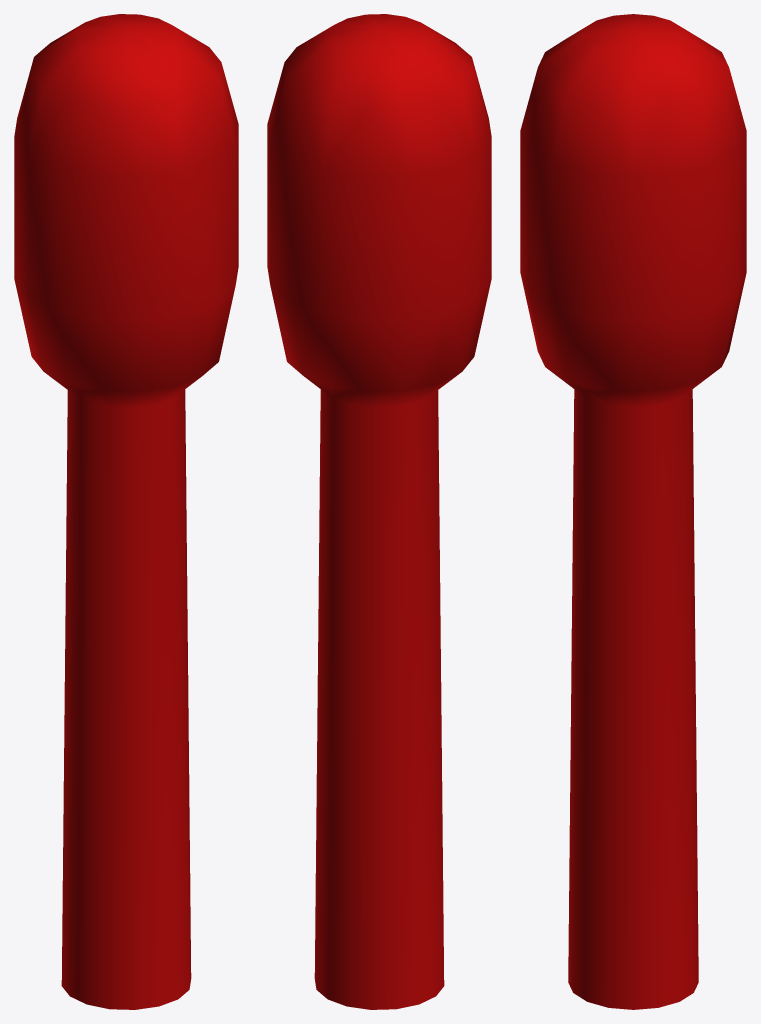
File: EM_StickL.obj
The picture shows the model from 3 angles, left to right: view 1: azimuth 30°, elevation 25°; view 2: azimuth 150°, elevation 25°; view 3: azimuth 270°, elevation 25°; orthographic projection.
Parts seen in each view (by area): view 1: EM_StickL; view 2: EM_StickL; view 3: EM_StickL.
Boxes of the visible parts, <box> form: EM_StickL: <box>14,14,238,1009</box>; EM_StickL: <box>267,14,491,1009</box>; EM_StickL: <box>520,14,746,1009</box>.
Bounding box in the file's own units: 0.26 × 1.21 × 0.26.
